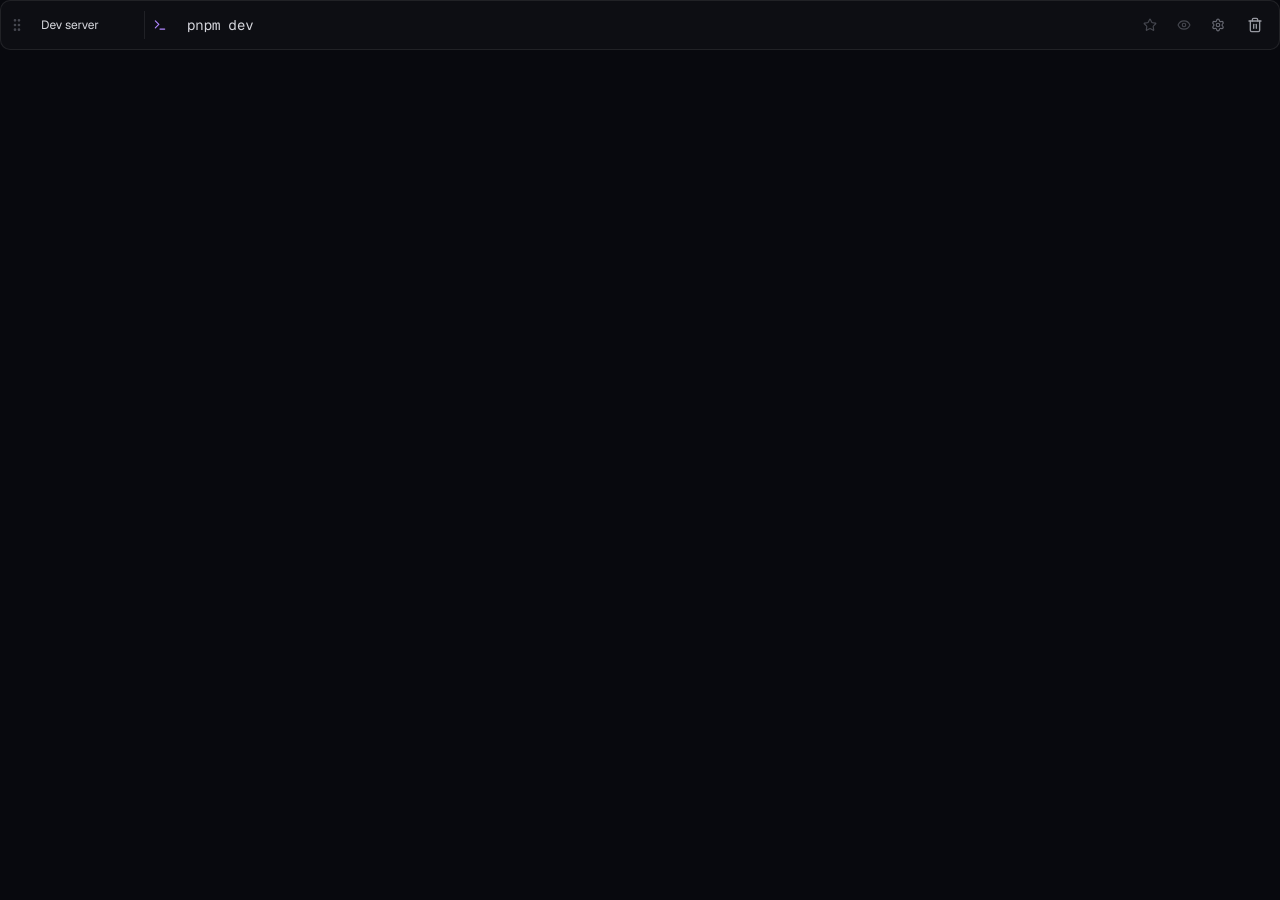
Test case: CommandRow delete confirmation › does not delete immediately when the trash button is clicked
Click the button titled "Delete command". click: (1255, 25)
box: [1239, 9, 1271, 41]
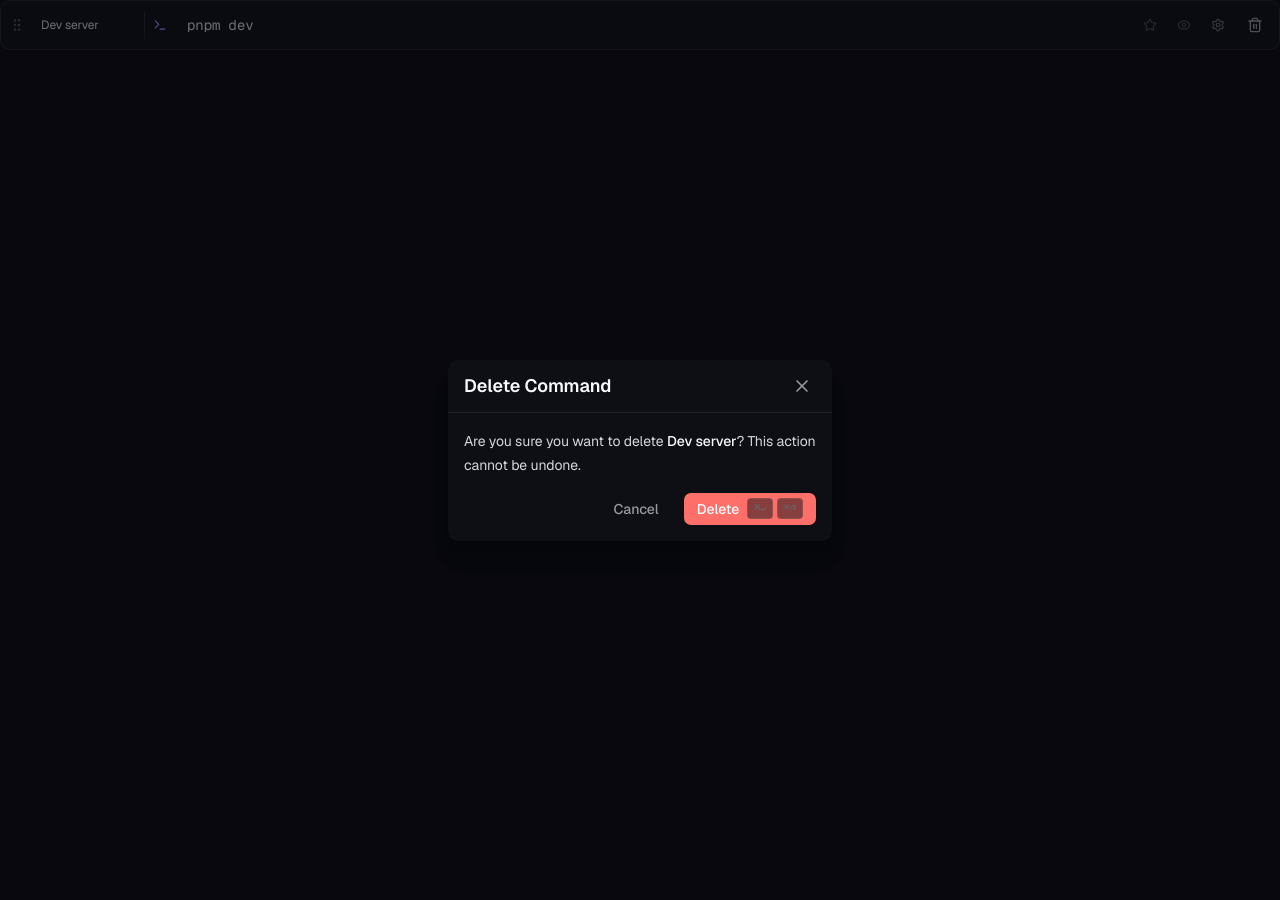
Check: the text "Are you sure you want to delete" is shown, box [464, 432, 664, 450]
